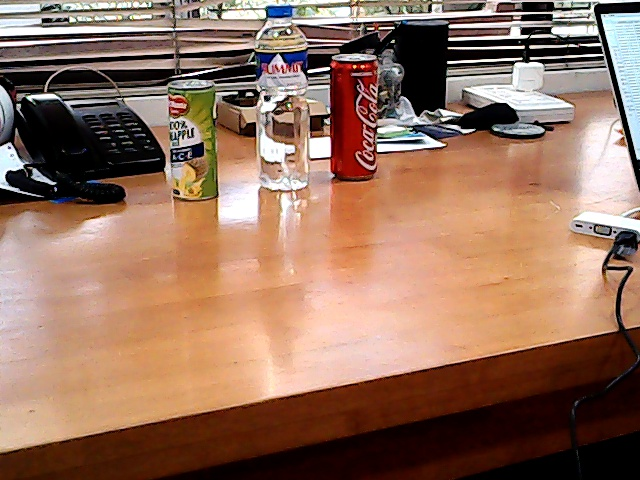Cola: (320, 47, 399, 187)
Pine Juice: (161, 72, 228, 210)
Summit Water: (244, 1, 320, 199)
